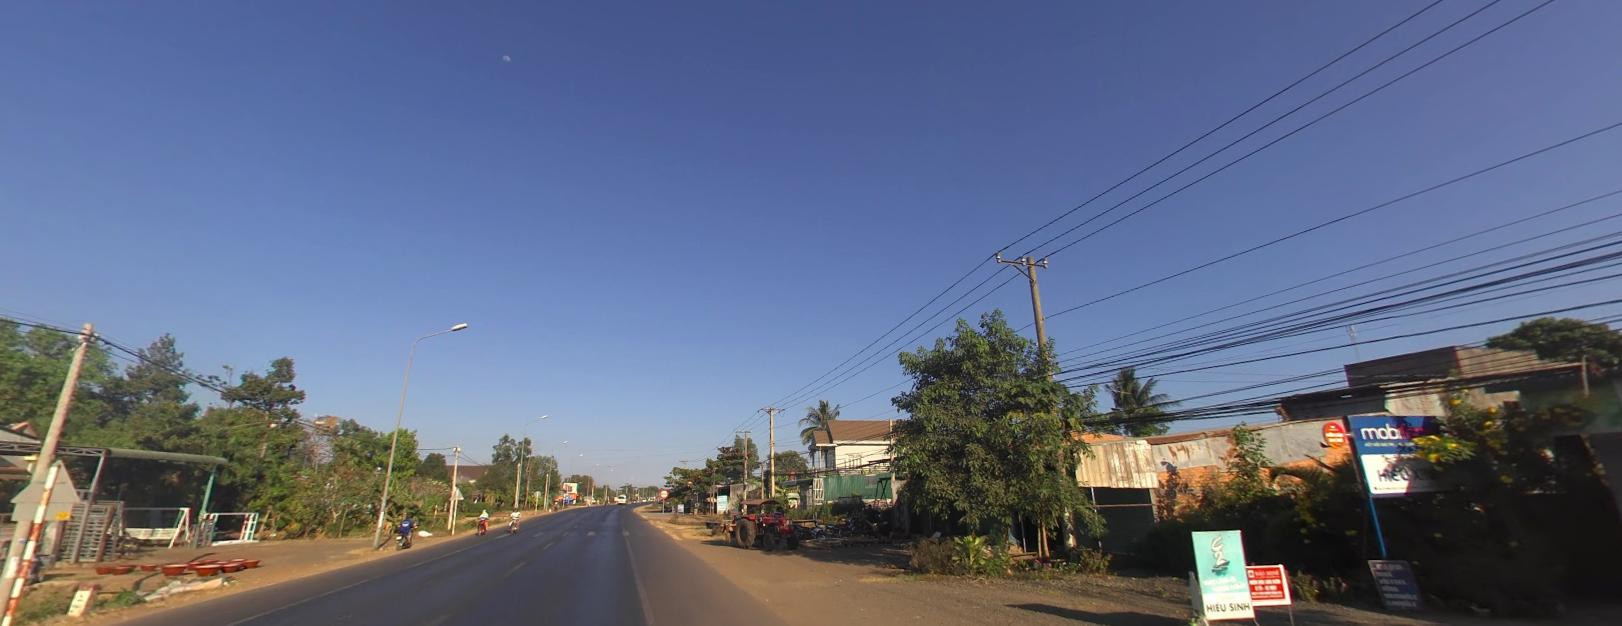Cam con lai: (658, 488, 668, 497)
